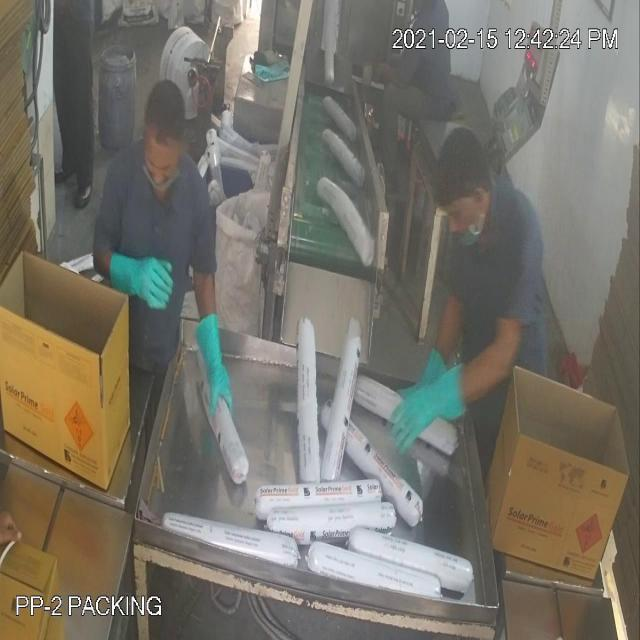Gloves: (43, 84, 426, 404)
